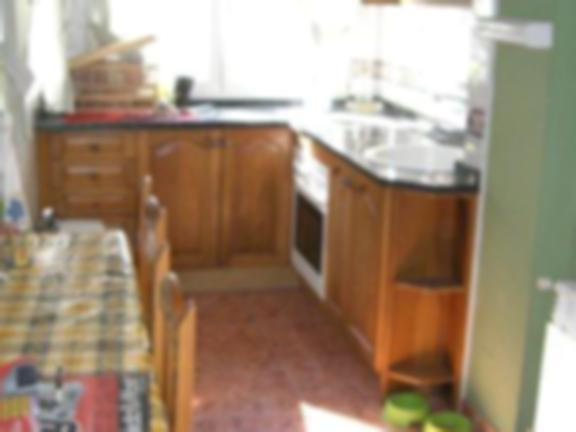Armario: (145, 122, 293, 267), (330, 162, 386, 358), (38, 126, 134, 224)
Electrodomestico: (290, 148, 329, 294)
Otro Obstaculo: (535, 278, 576, 432)
